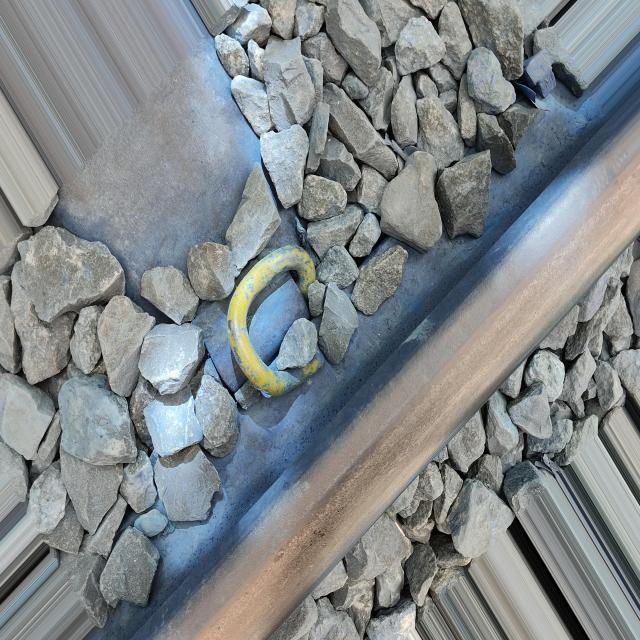Good Fasteners: (189, 239, 343, 429)
